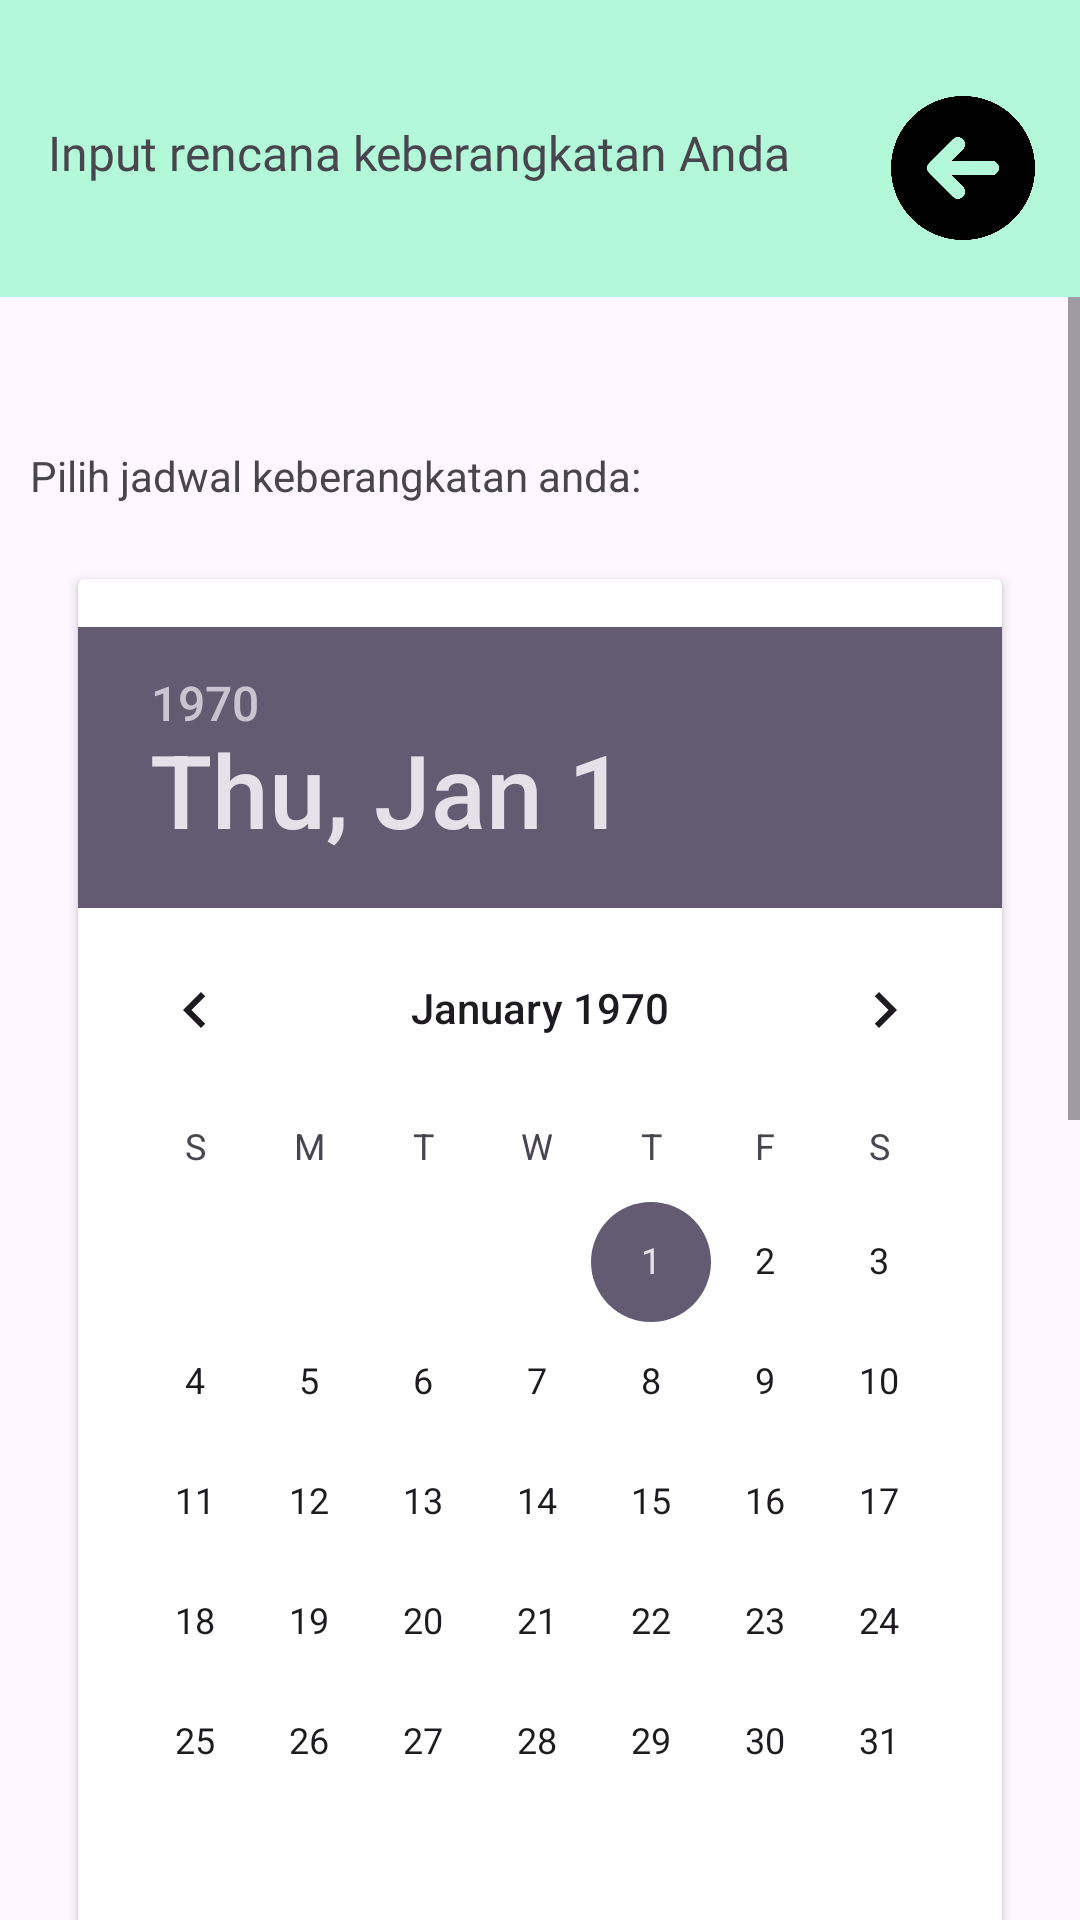

Icons on this 1080 x 1920 Android screen, each with its box as (x1, y1, x2, y2):
back: (891, 96, 1035, 240)
